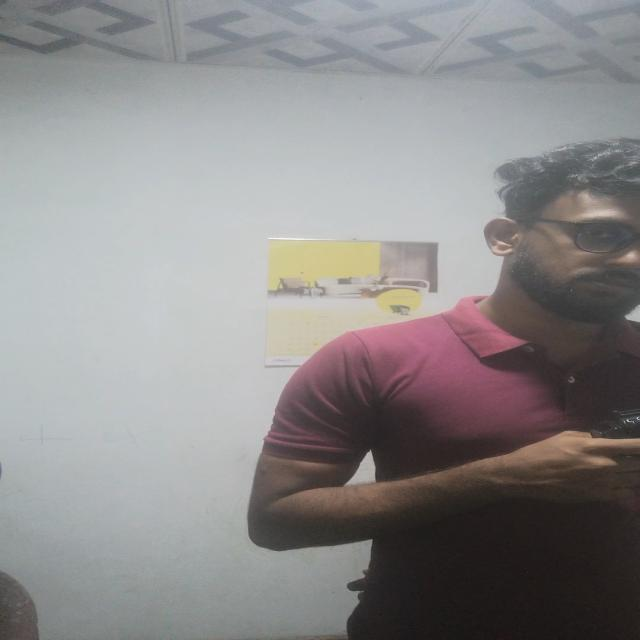Gun_Holder: (536, 396, 640, 484)
Person: (249, 144, 640, 640)
